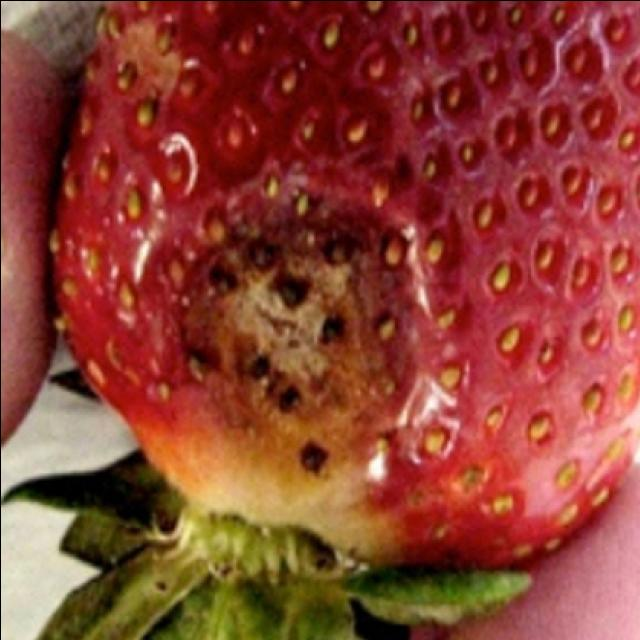Anthracnose Fruit Rot: (165, 192, 446, 473)
